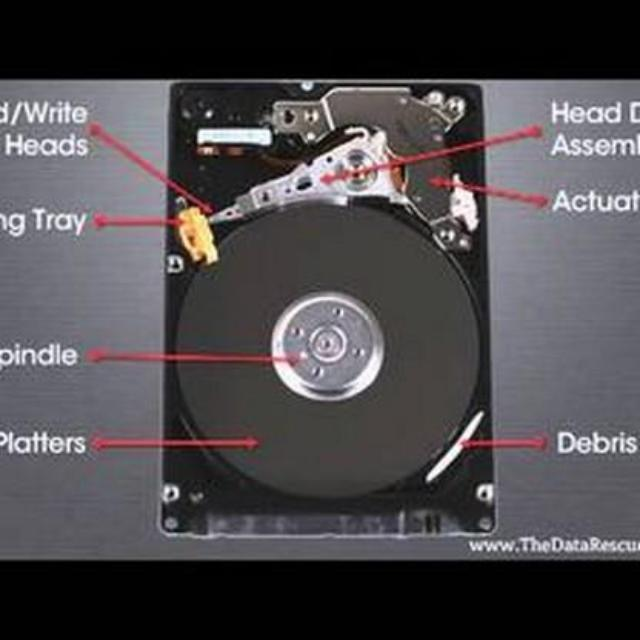DISK: (162, 84, 500, 538)
